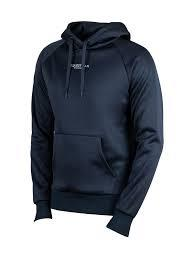hoodie: (22, 14, 166, 241)
